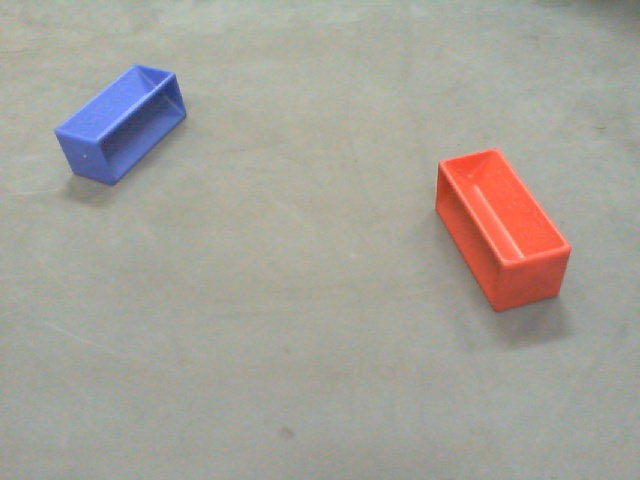BlueSample: (52, 64, 190, 188)
RedSample: (435, 145, 568, 314)
